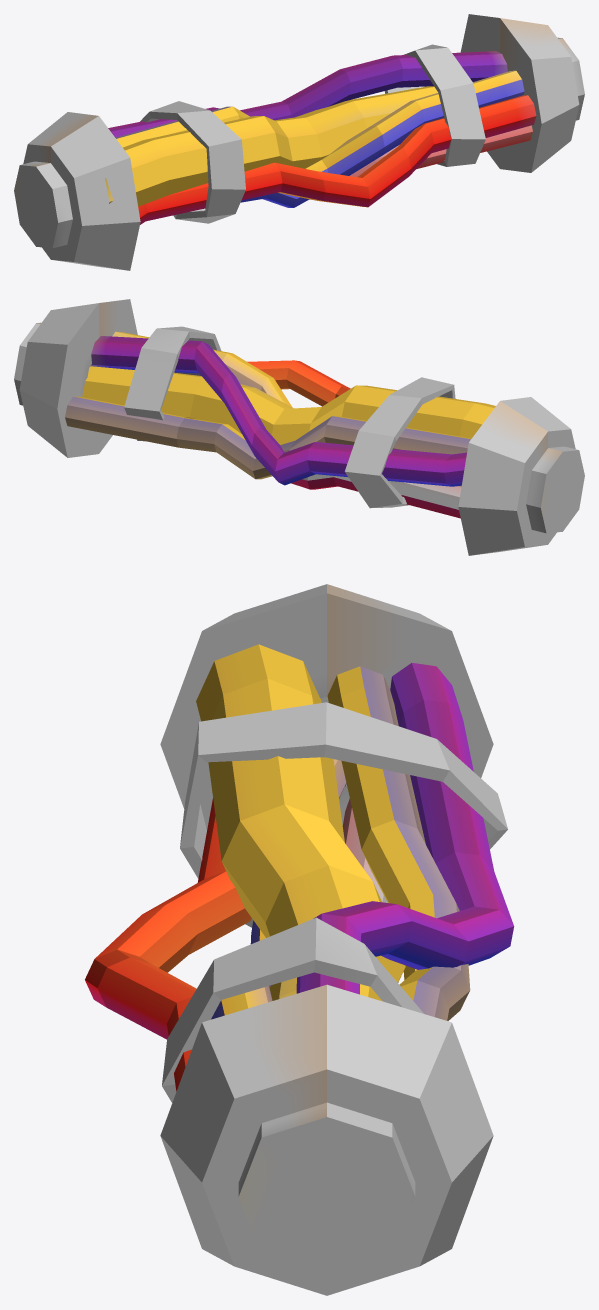
File: straight2_h.fbx
3 views of the same model, one above another, from view 1: azimuth 30°, elevation 25°; view 2: azimuth 150°, elevation 25°; view 3: azimuth 270°, elevation 25° (orthographic). The views are drawn at different scales.
Visible parts, largest first — view 1: straight2; view 2: straight2; view 3: straight2.
Part boxes in pixels (<box>): straight2: <box>14,14,584,270</box>; straight2: <box>14,299,584,555</box>; straight2: <box>85,584,514,1295</box>.
Bounding box in the file's own units: 1.02 × 0.2798 × 0.3605.
